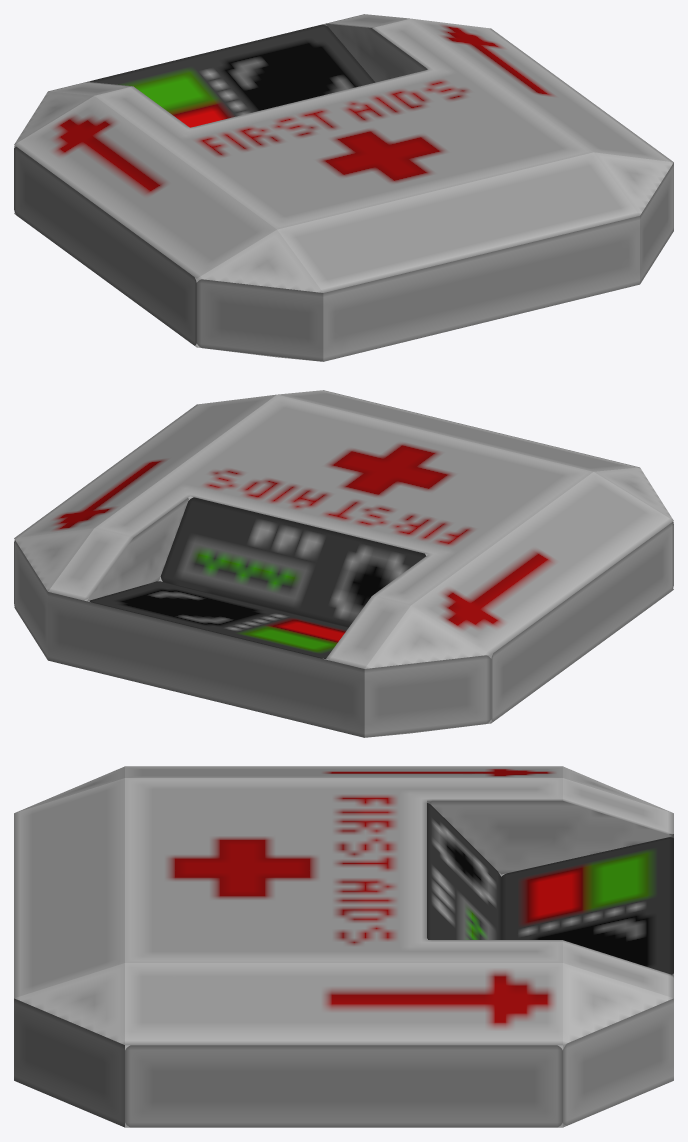
The model's file is FirstAid.fbx.
The picture shows the model from 3 angles, top to bottom: view 1: azimuth 30°, elevation 25°; view 2: azimuth 150°, elevation 25°; view 3: azimuth 270°, elevation 25°; orthographic projection. The views are drawn at different scales.
Visible parts, largest first — view 1: Cube; view 2: Cube; view 3: Cube.
Boxes of the visible parts, <box> form: Cube: <box>14,14,673,361</box>; Cube: <box>14,390,673,737</box>; Cube: <box>14,766,673,1127</box>.
Bounding box in the file's own units: 40 × 10.24 × 40.
